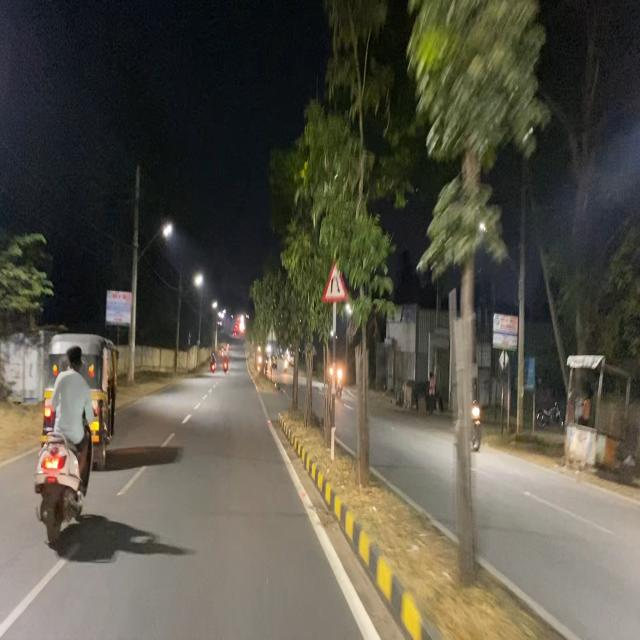bien_cam: (322, 256, 348, 306)
